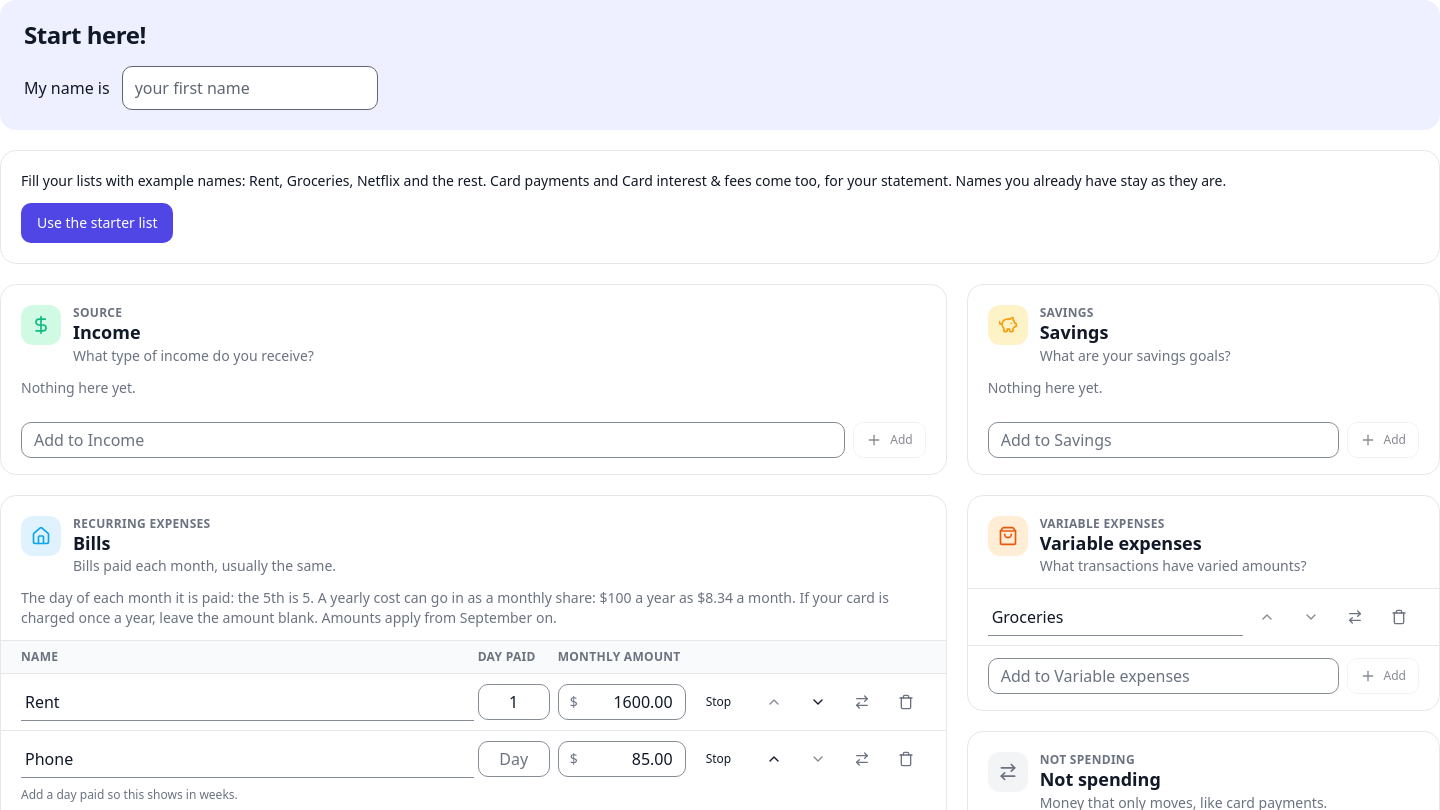
Scenario: Lists, day paid and monthly amount › refuses a day or an amount it cannot save, puts the field back, and saves nothing
Replace the text in the field named "Day paid for Rent" with "45" at x=514, y=702, box left=478, top=684, right=550, bottom=720
Leave the field named "Day paid for Rent", box left=478, top=684, right=550, bottom=720
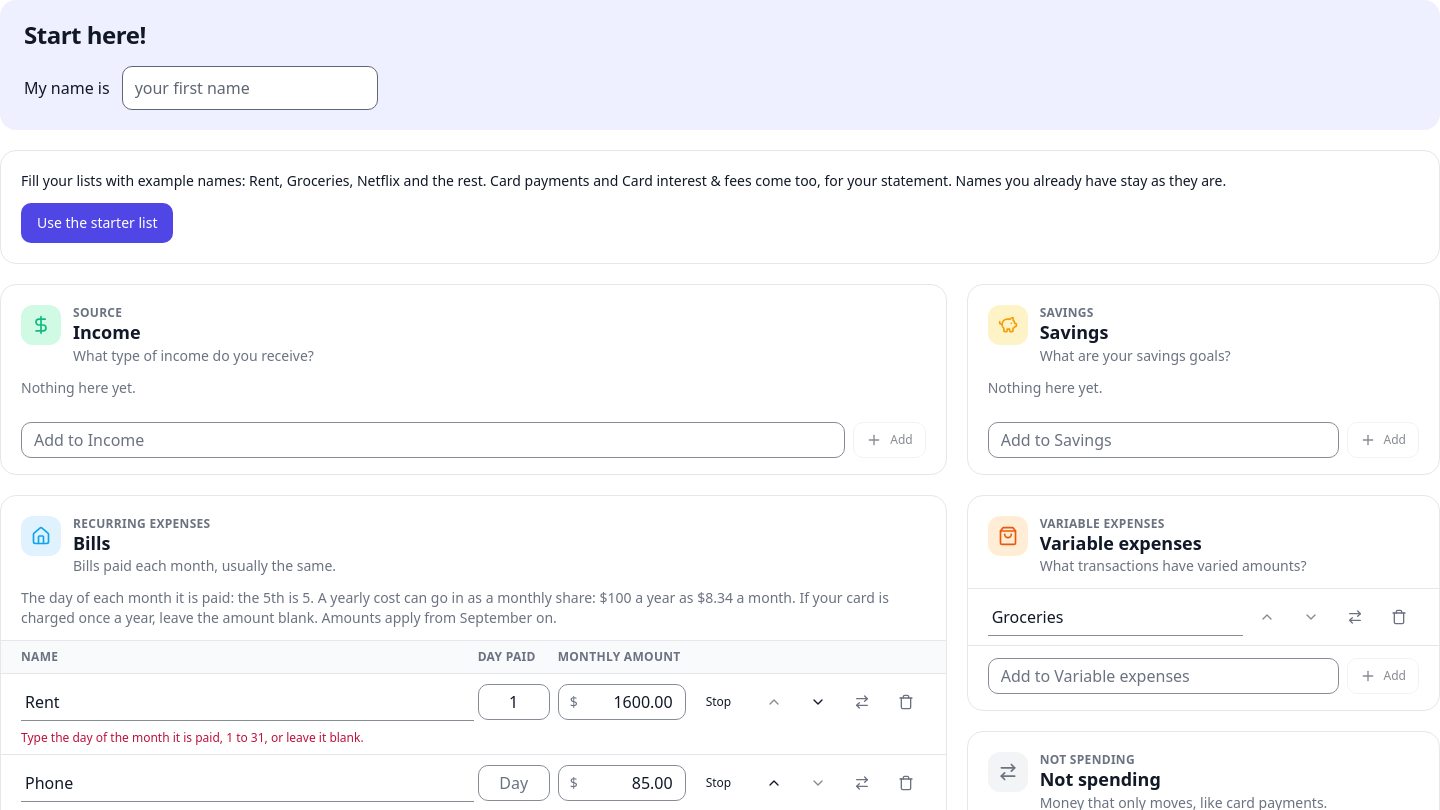
Now the message reads "Type the day of the month it is paid, 1 to 31, or leave it blank.", box left=21, top=729, right=364, bottom=746
Now the field named "Day paid for Rent" holds "1"
Now the message shows "Type the day of the month", box left=21, top=729, right=364, bottom=746
Replace the text in the field named "Day paid for Rent" with "0" at x=514, y=702, box left=478, top=684, right=550, bottom=720
Leave the field named "Day paid for Rent", box left=478, top=684, right=550, bottom=720
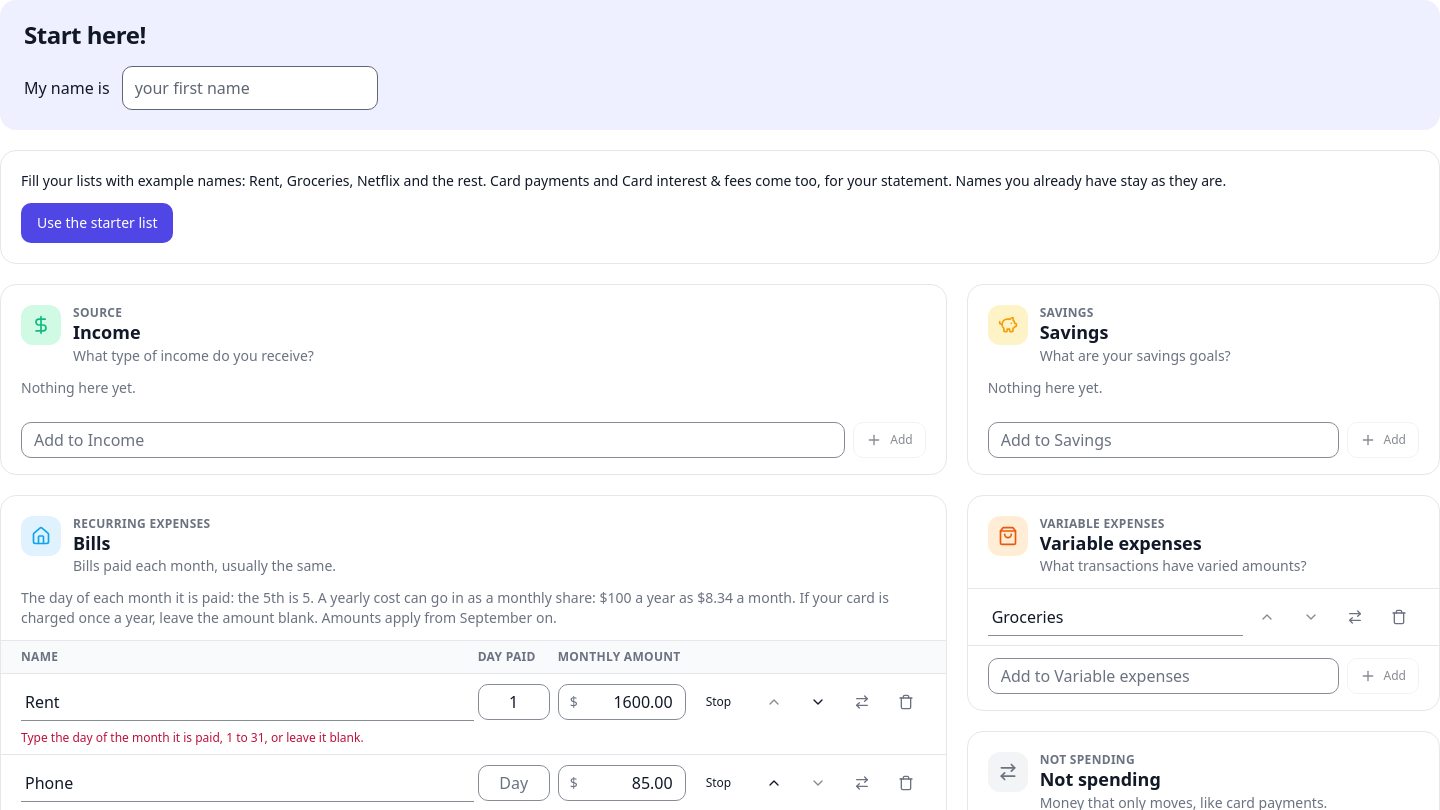
Now the message reads "Type the day of the month it is paid, 1 to 31, or leave it blank.", box left=21, top=729, right=364, bottom=746
Now the message shows "Type the day of the month", box left=21, top=729, right=364, bottom=746
Now the field named "Day paid for Rent" holds "1", box left=478, top=684, right=550, bottom=720
Replace the text in the field named "Monthly amount for Rent, from September on" with "-5" at x=622, y=702, box left=558, top=684, right=686, bottom=720
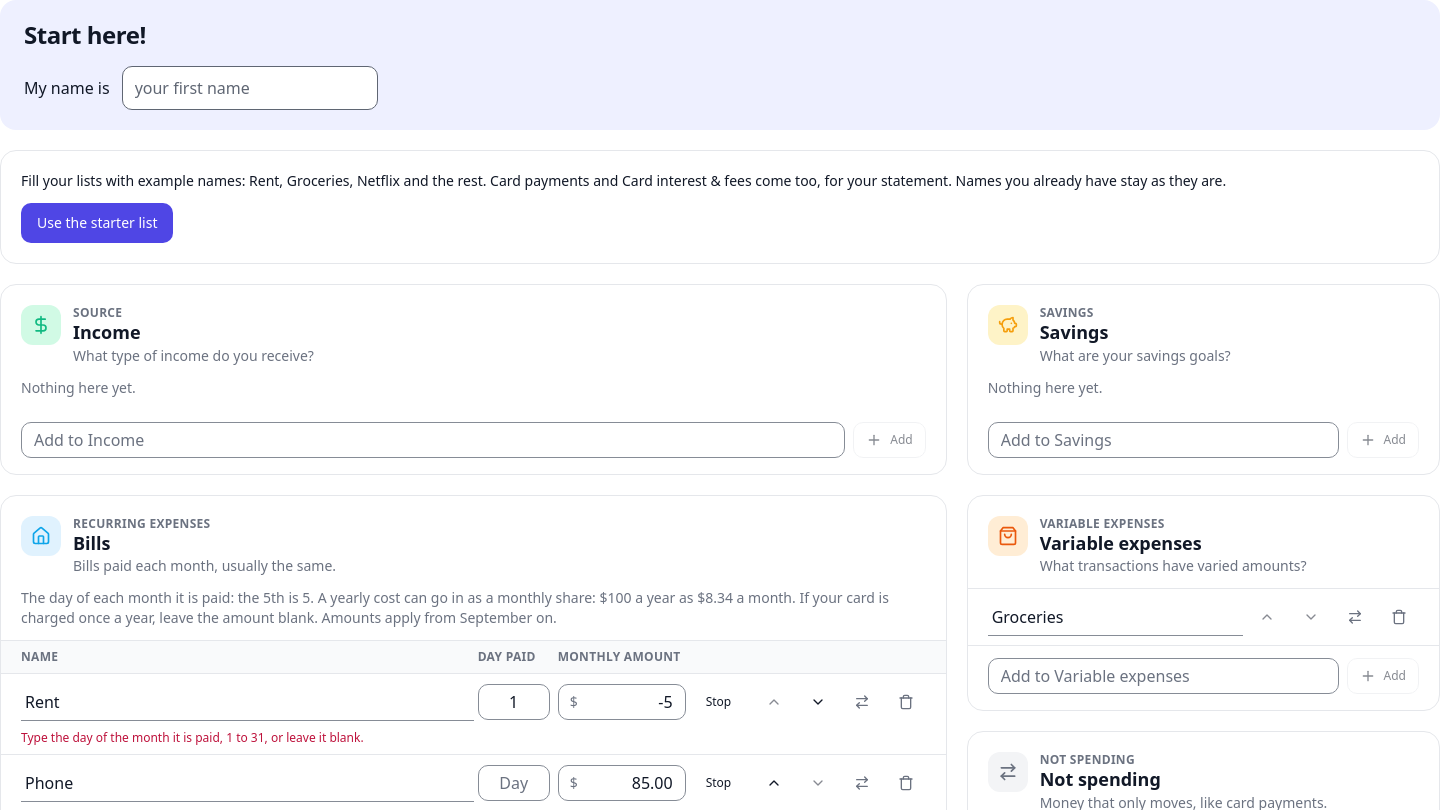
Leave the field named "Monthly amount for Rent, from September on", box left=558, top=684, right=686, bottom=720
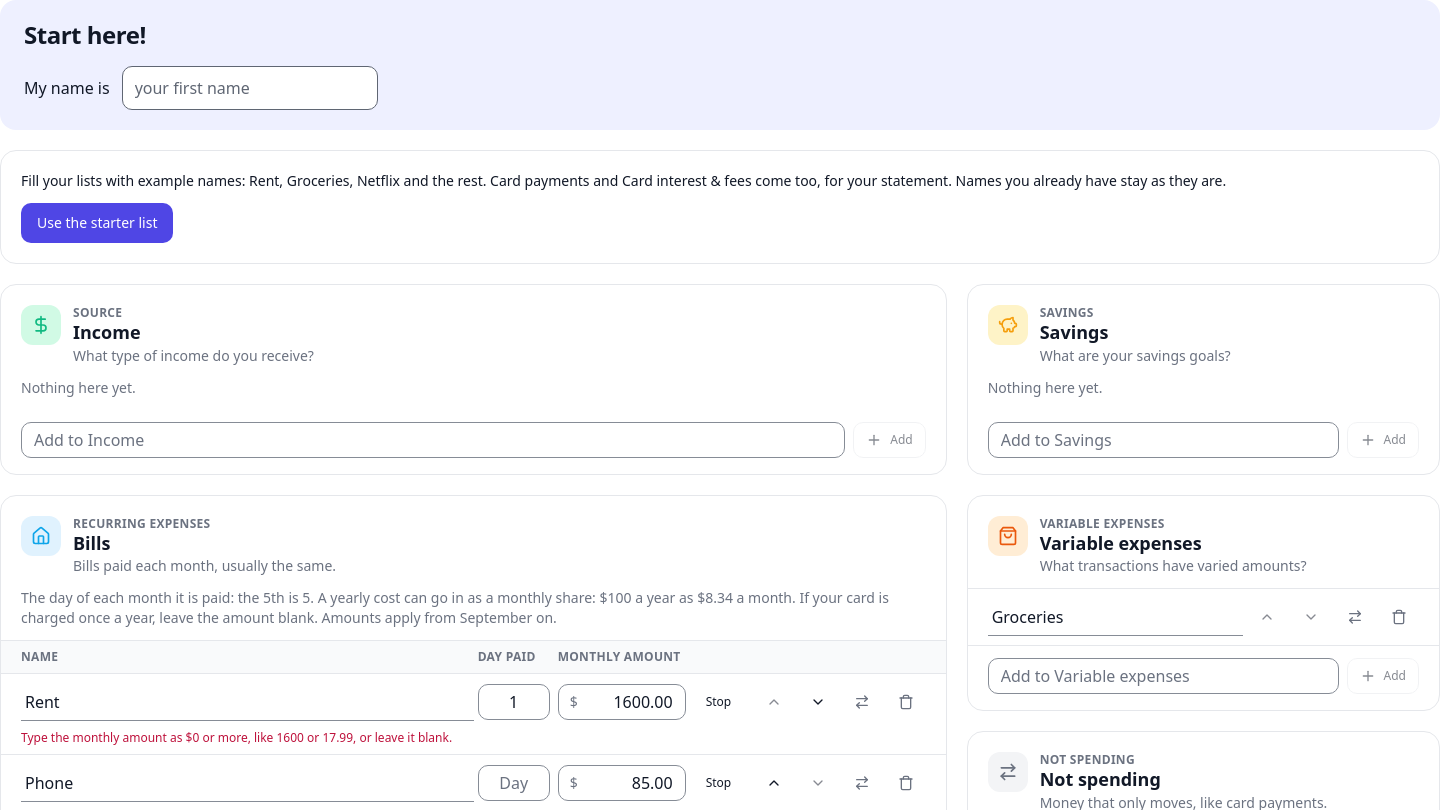
Now the text "Type the monthly amount as $0 or more, like 1600 or 17.99, or leave it blank." is shown, box left=21, top=729, right=452, bottom=746
Now the field named "Monthly amount for Rent, from September on" holds "1600.00"
Replace the text in the field named "Monthly amount for Rent, from September on" with "about 20" at x=622, y=702, box left=558, top=684, right=686, bottom=720
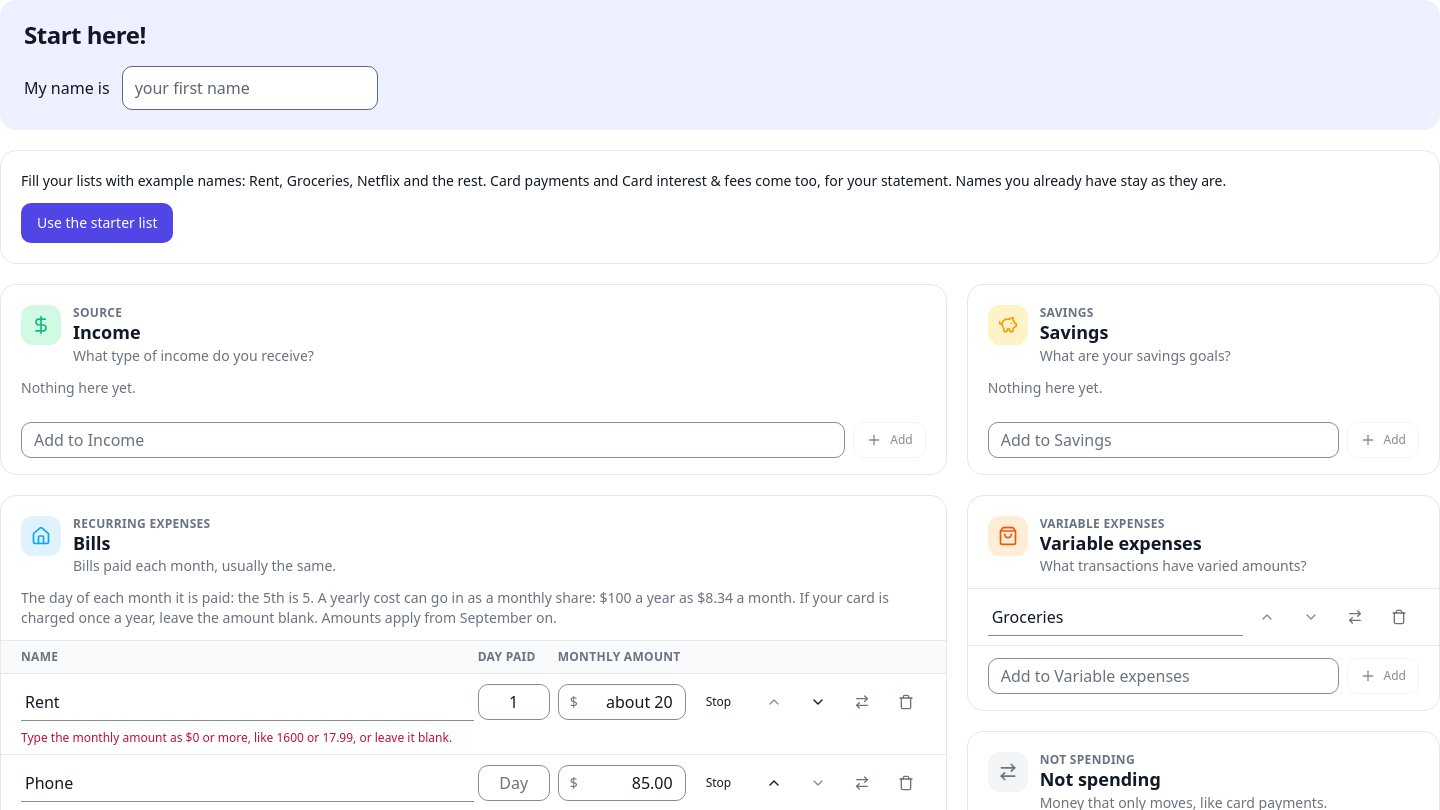
Leave the field named "Monthly amount for Rent, from September on", box left=558, top=684, right=686, bottom=720
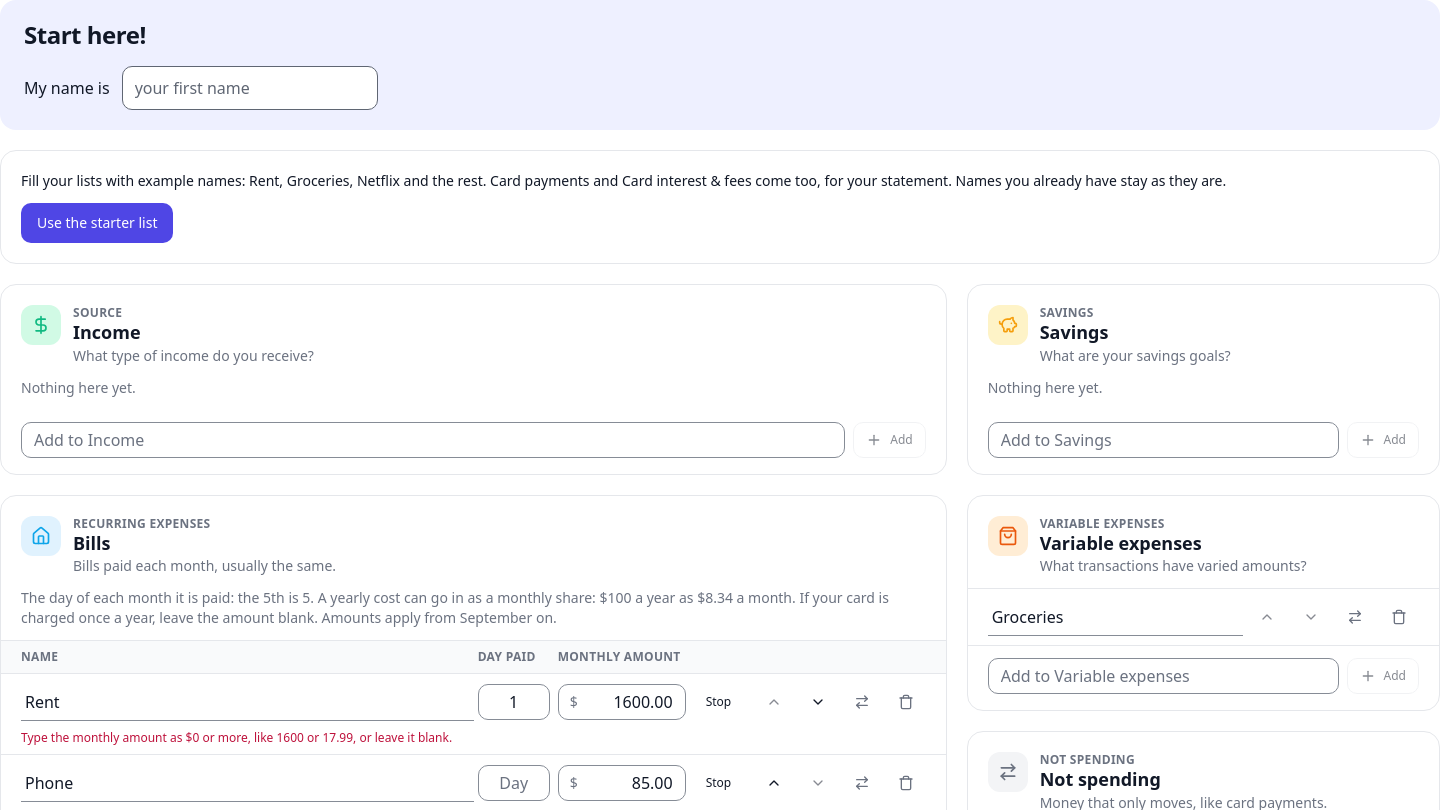
Now the text "Type the monthly amount as $0 or more, like 1600 or 17.99, or leave it blank." is shown, box left=21, top=729, right=452, bottom=746
Now the field named "Monthly amount for Rent, from September on" holds "1600.00", box left=558, top=684, right=686, bottom=720
